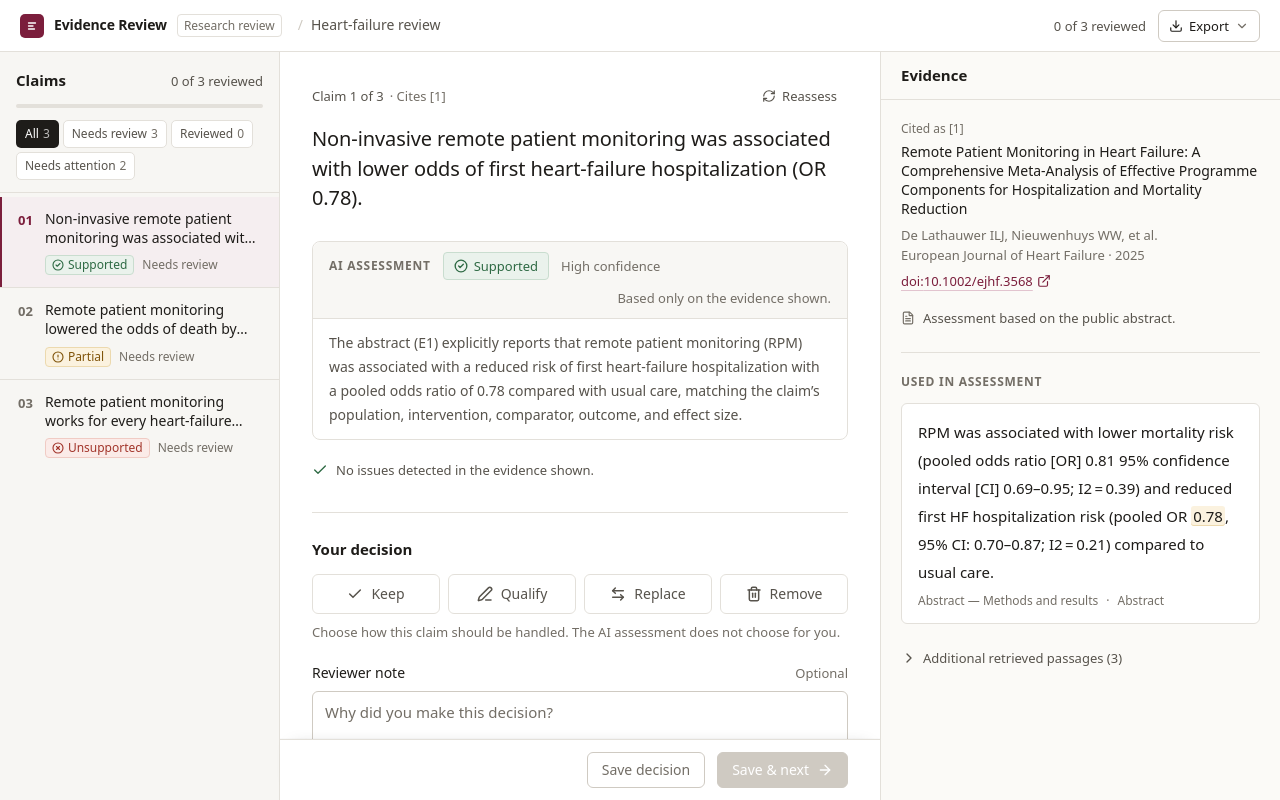
Test: Review workspace — unsaved changes › asks before discarding, and can keep editing
Expected: the heading "Claim 1 of 3" is shown, [312,86,384,106]
Click the radio button labelled "Remove": (784, 594) [720,574,848,614]
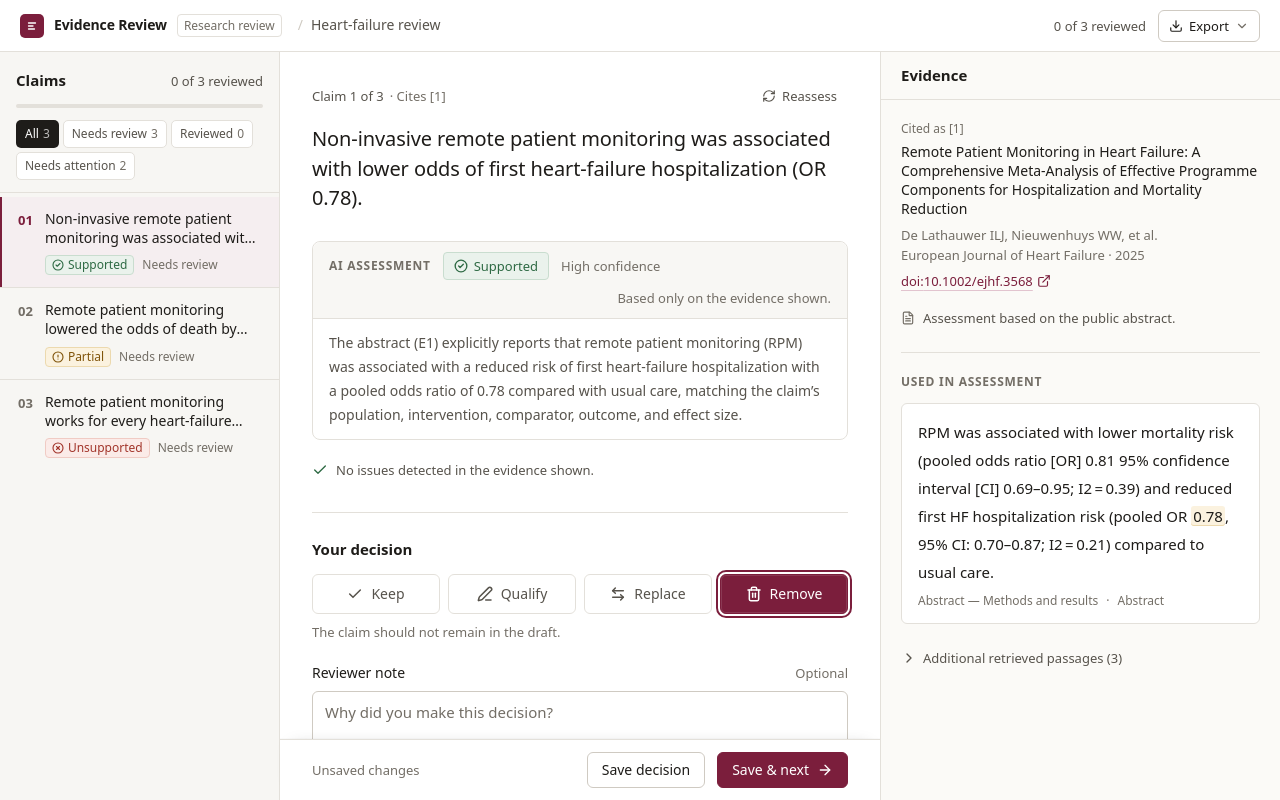
Click the text "Remote patient monitoring lowered the odds of death by 22%.": (154, 319) [45,300,263,339]
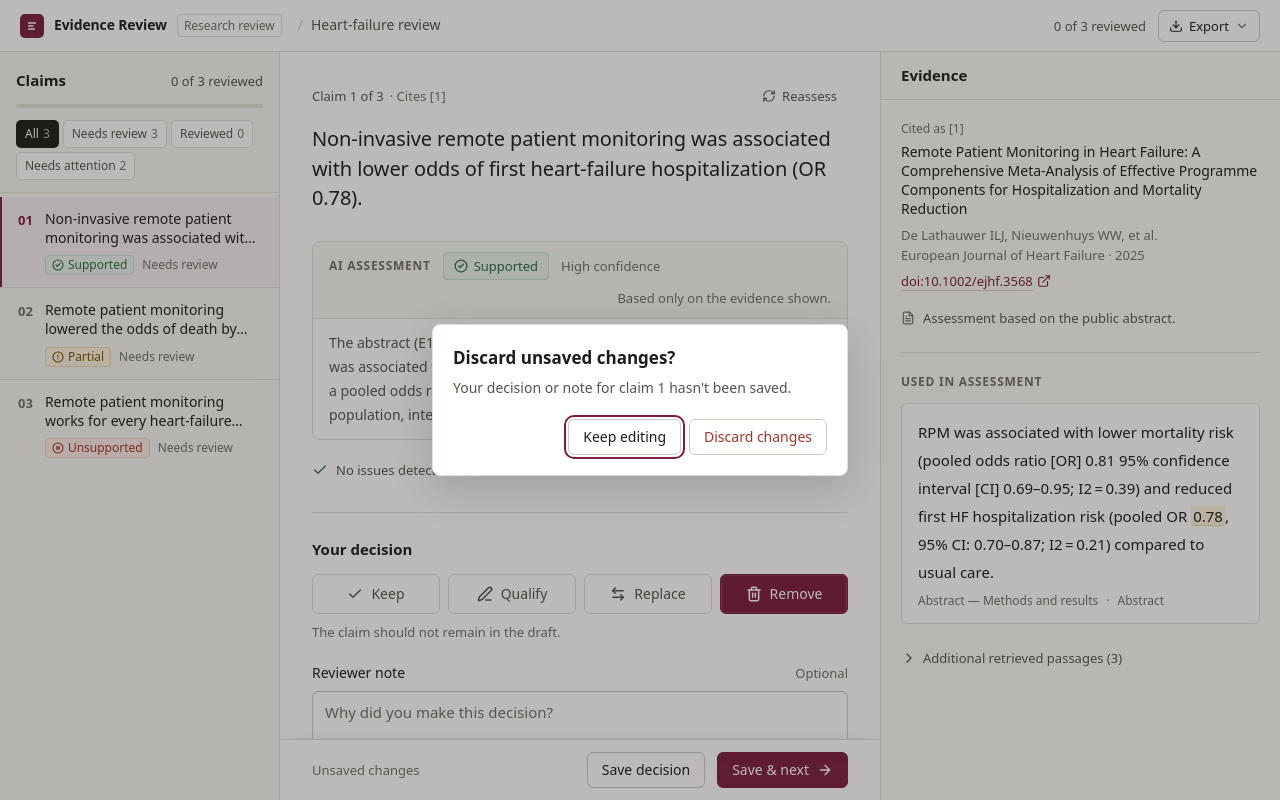
Expected: the heading "Discard unsaved changes?" is shown, [453,346,676,369]
Click the button "Keep editing": (625, 437) [568,419,681,455]
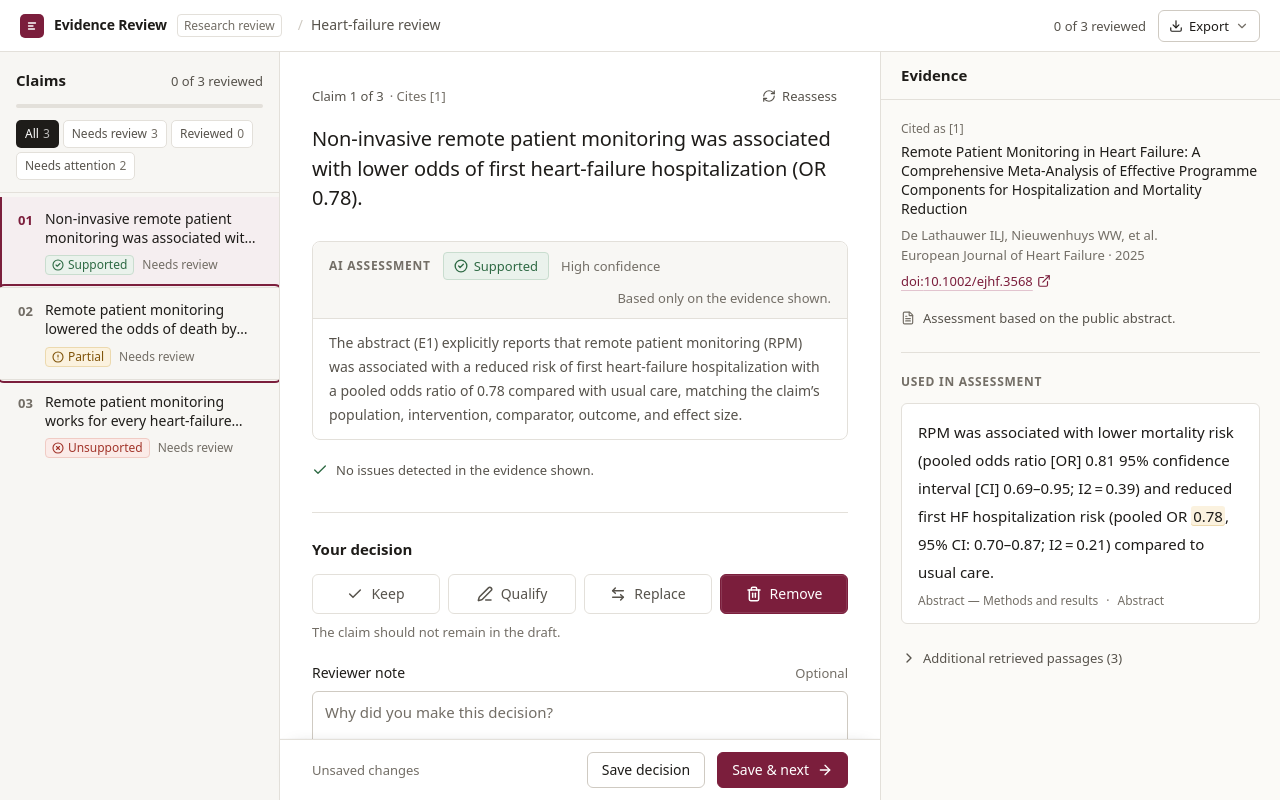
Expected: the heading "Claim 1 of 3" is shown, [312,86,384,106]
Expected: the radio button labelled "Remove" is checked, [720,574,848,614]
Click the text "Remote patient monitoring lowered the odds of death by 22%.": (154, 319) [45,300,263,339]
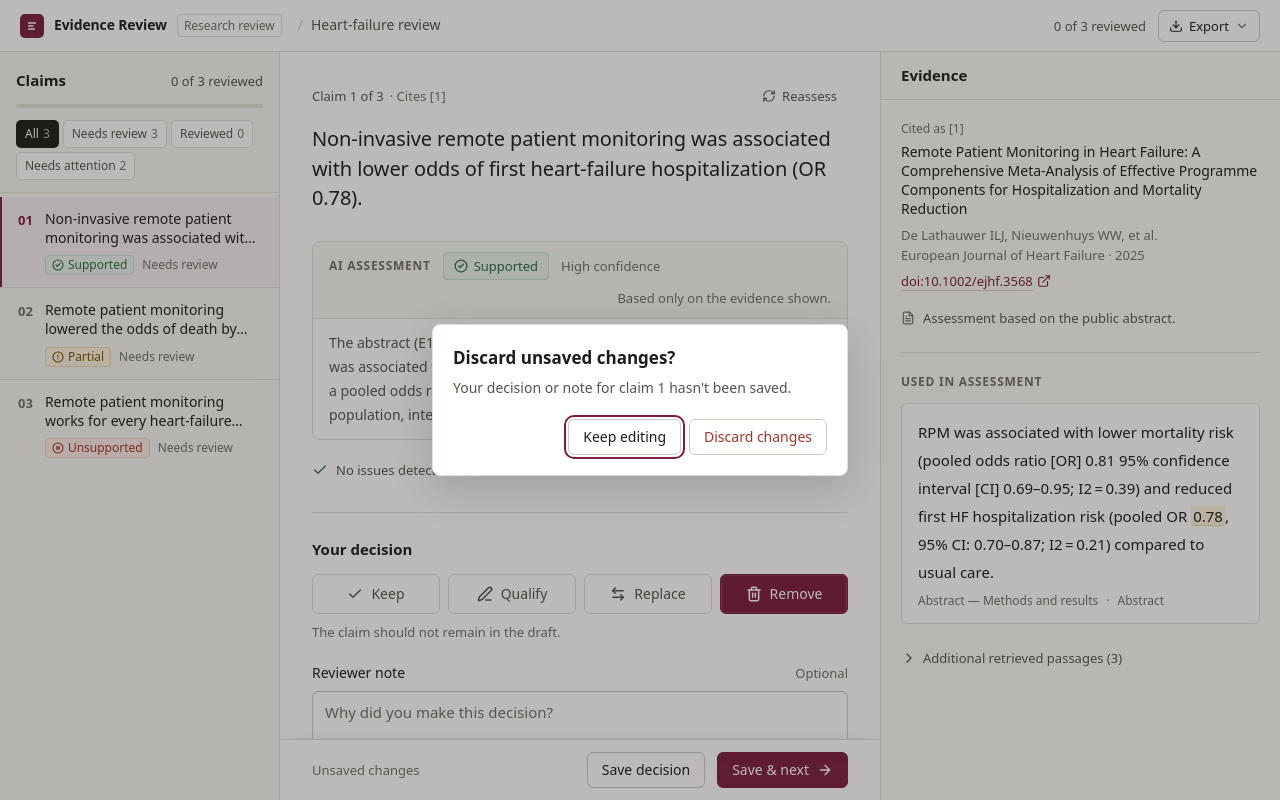
Click the button "Discard changes": (758, 437) [689,419,827,455]
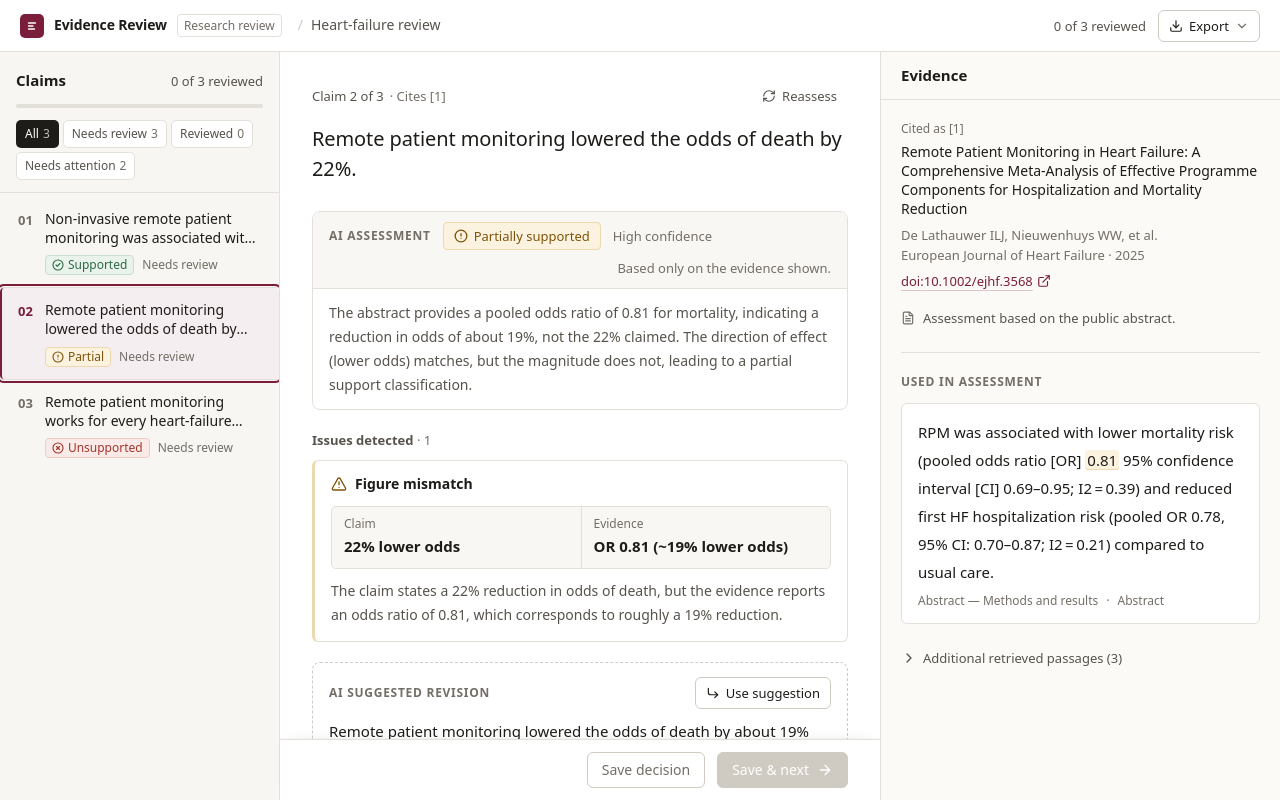
Expected: the heading "Claim 2 of 3" is shown, [312,86,384,106]
Click the text "Non-invasive remote patient monitoring was associated with lower odds of first heart-failure hospitalization (OR 0.78).": (154, 228) [45,209,263,247]
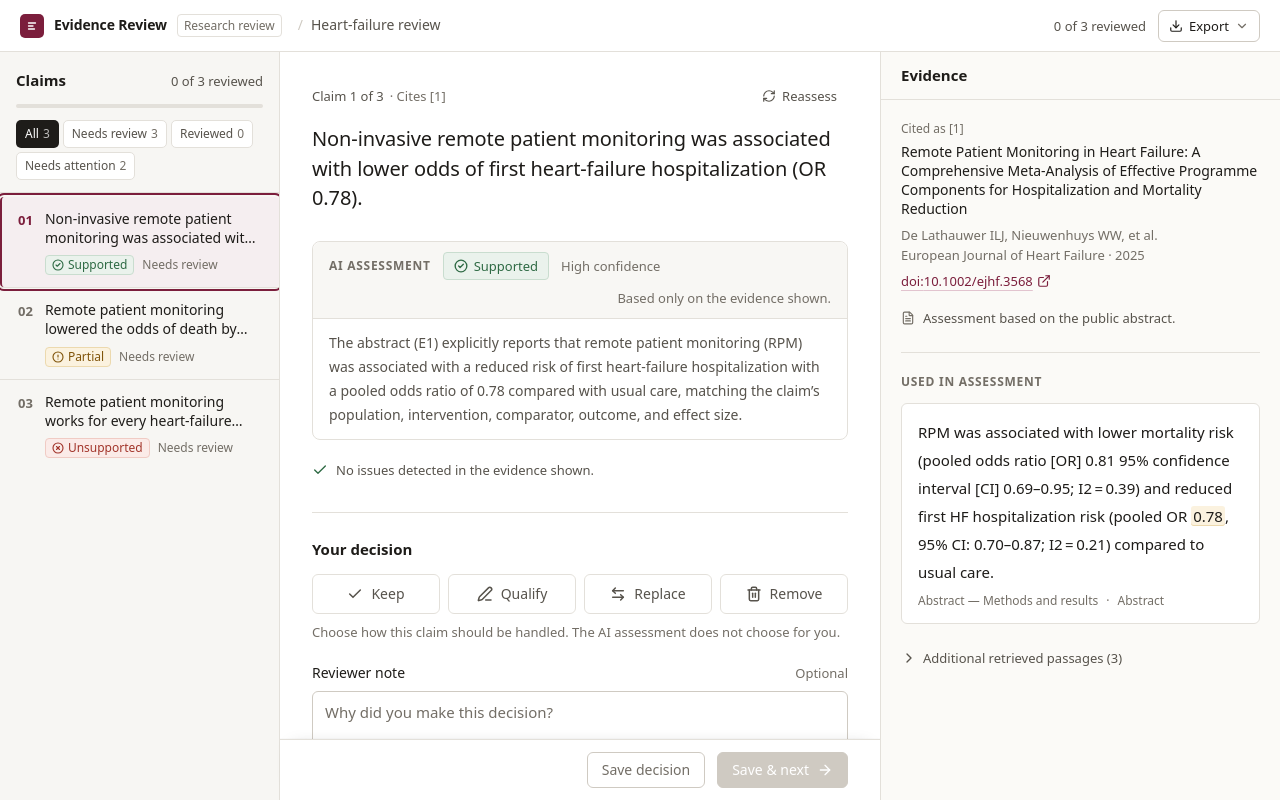
Expected: the heading "Claim 1 of 3" is shown, [312,86,384,106]
